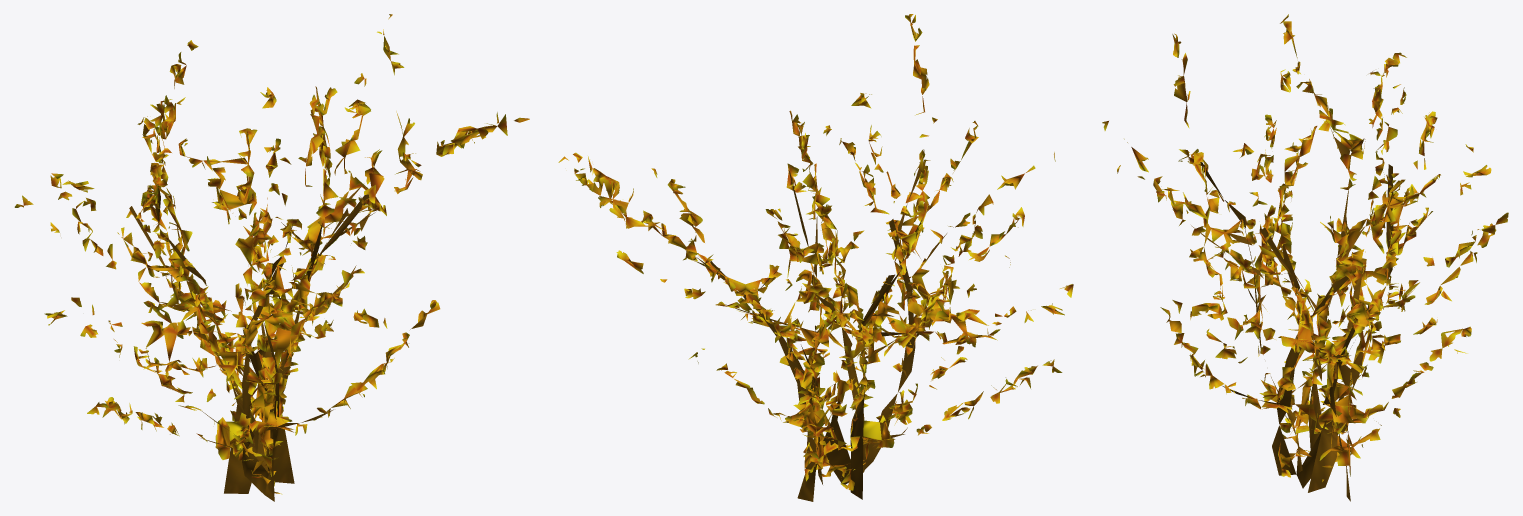
File: forsythia.glb
The picture shows the model from 3 angles, left to right: view 1: azimuth 30°, elevation 25°; view 2: azimuth 150°, elevation 25°; view 3: azimuth 270°, elevation 25°; orthographic projection. The views are drawn at different scales.
Visible parts, largest first — view 1: Forsythia; view 2: Forsythia; view 3: Forsythia.
Boxes of the visible parts, x1,y1,x2,y2 form: Forsythia: (14,14,529,501); Forsythia: (558,14,1073,501); Forsythia: (1102,14,1508,501).
Bounding box in the file's own units: 0.2108 × 0.1852 × 0.1502.
Materials: 1 (1 with a texture image).
